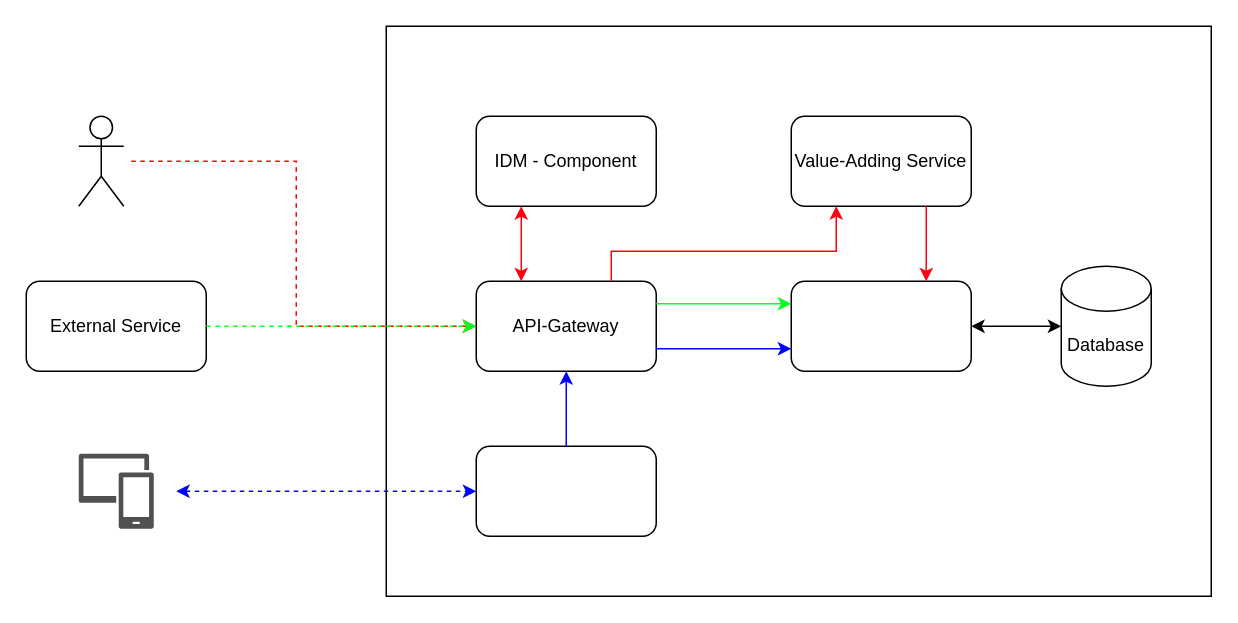
This 1238x623 diagram has some shape labels left out. Each missing label, with the centre of its shape:
"Context Broker" goes at [880,325].
"IoT-Agent" goes at [565,490].
